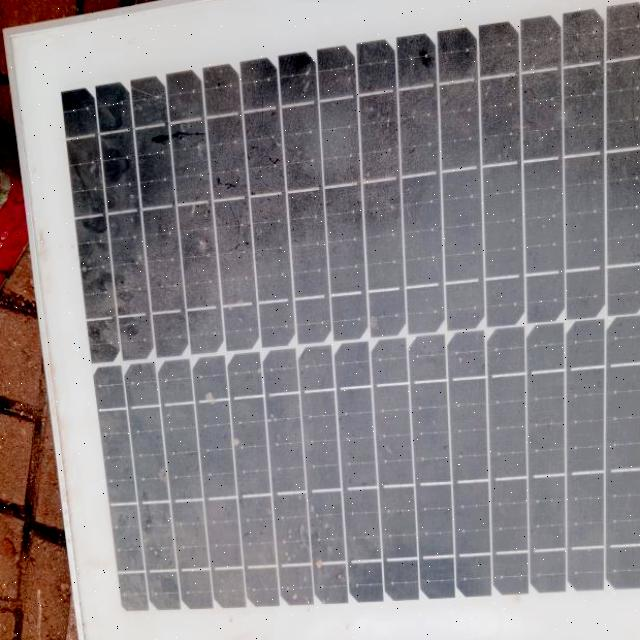Surface Contaminant: (92, 63, 640, 618)
